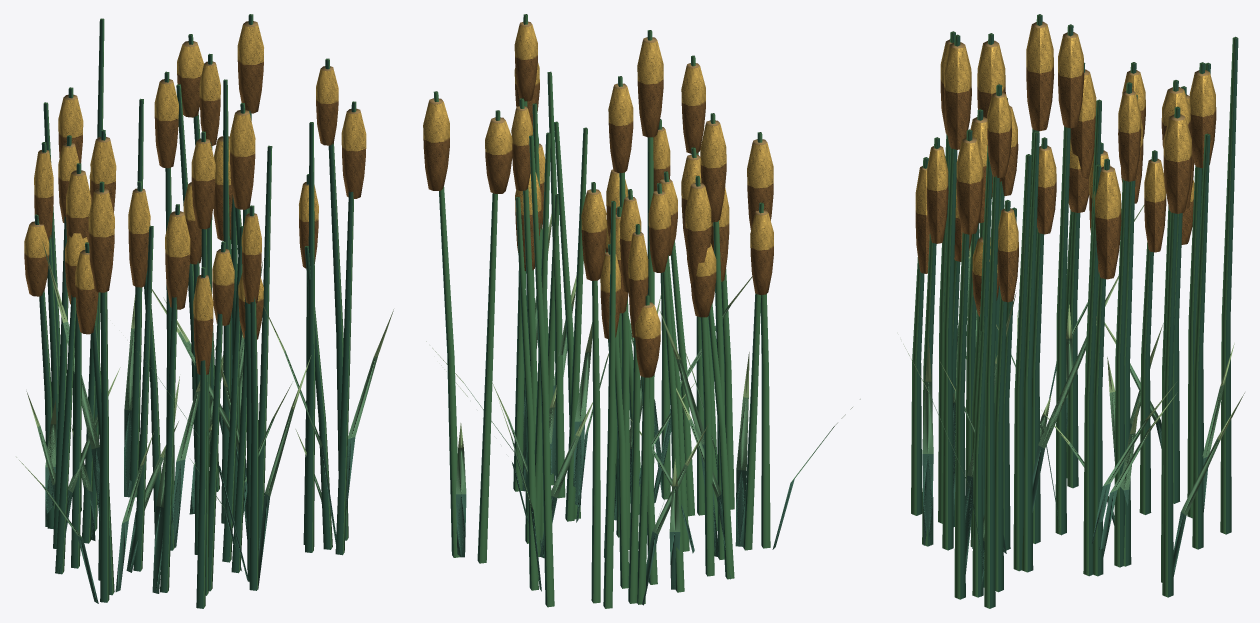
The model's file is Wetland_01_Totora_Tall.glb.
3 views of the same model, side by side, from view 1: azimuth 30°, elevation 25°; view 2: azimuth 150°, elevation 25°; view 3: azimuth 270°, elevation 25° (orthographic). The views are drawn at different scales.
Parts seen in each view (by area): view 1: Wetland_01_Totora_Tall; view 2: Wetland_01_Totora_Tall; view 3: Wetland_01_Totora_Tall.
Boxes of the visible parts, x1,y1,x2,y2 form: Wetland_01_Totora_Tall: [16, 14, 393, 608]; Wetland_01_Totora_Tall: [423, 14, 860, 608]; Wetland_01_Totora_Tall: [903, 14, 1244, 608].
Size of the model in its own units: 1.84 by 2.4 by 1.48.
2 materials, 1 textured.
